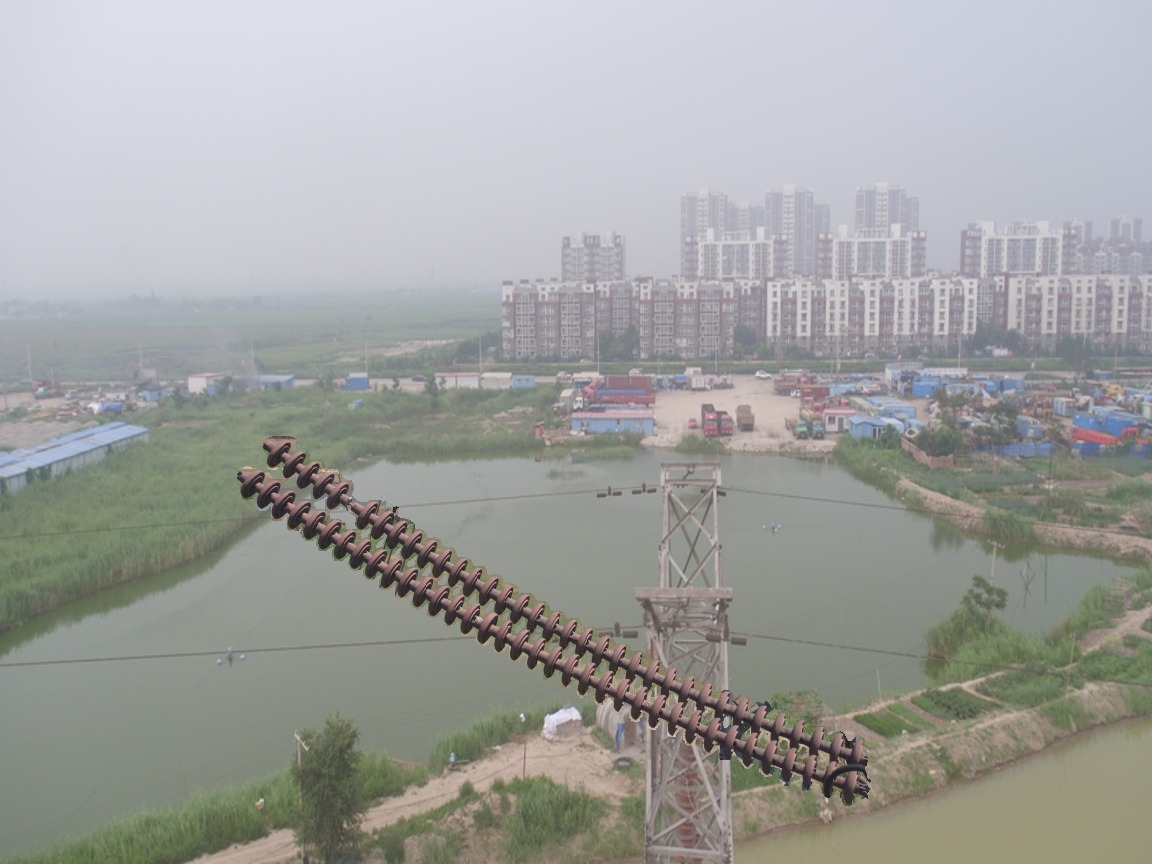defect: (325, 480, 384, 534)
